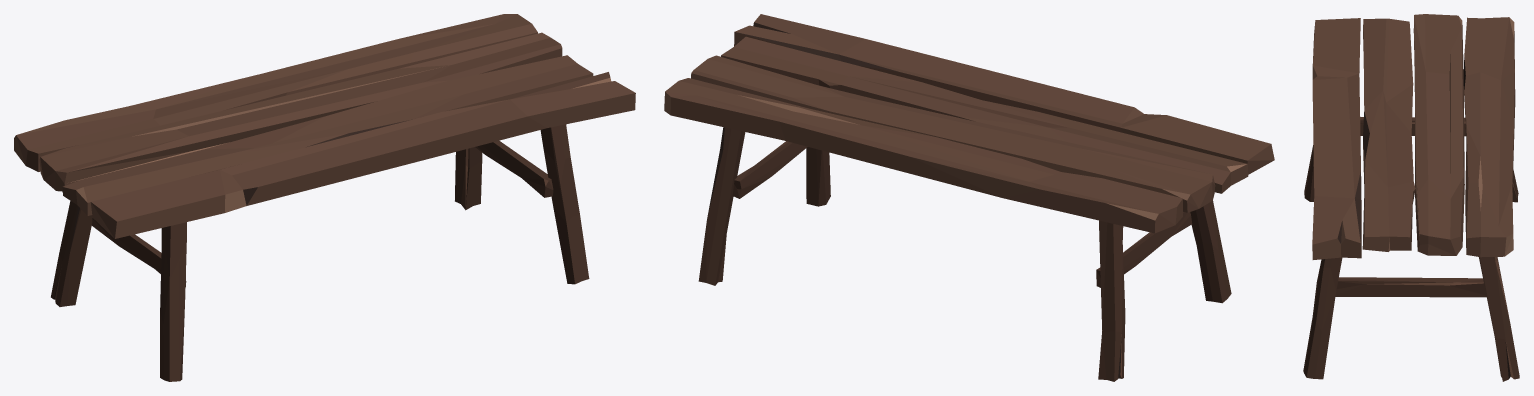
File: TableWood_01.glb
The picture shows the model from 3 angles, left to right: view 1: azimuth 30°, elevation 25°; view 2: azimuth 150°, elevation 25°; view 3: azimuth 270°, elevation 25°; orthographic projection. The views are drawn at different scales.
Parts seen in each view (by area): view 1: TableWood_01; view 2: TableWood_01; view 3: TableWood_01.
Part boxes in pixels (x1,y1,x2,y2): TableWood_01: [14, 14, 635, 381]; TableWood_01: [664, 14, 1274, 381]; TableWood_01: [1303, 14, 1519, 381].
Size of what is drawn, in the model's own units: 3.2 by 1.08 by 1.28.
1 material, 1 textured.
